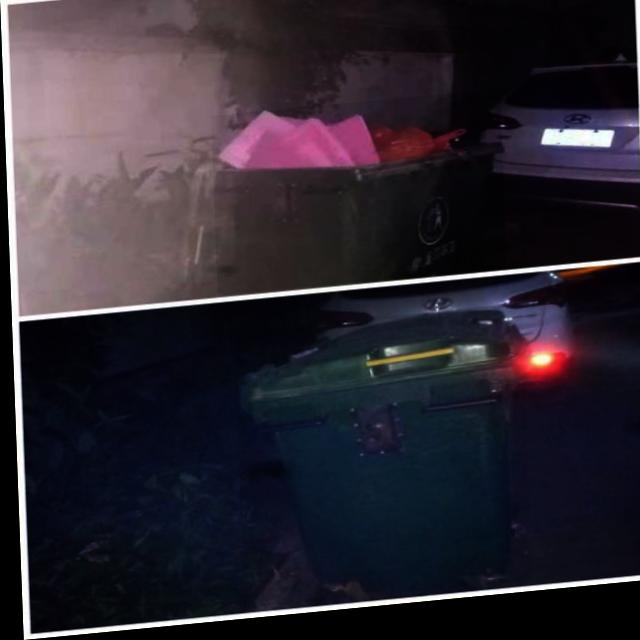garbage_bin: (232, 315, 528, 612)
overflow: (210, 99, 504, 299)
